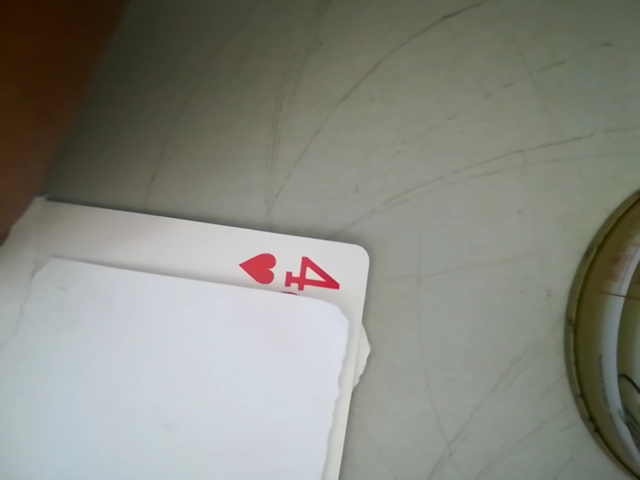hx 4: (233, 244, 359, 301)
